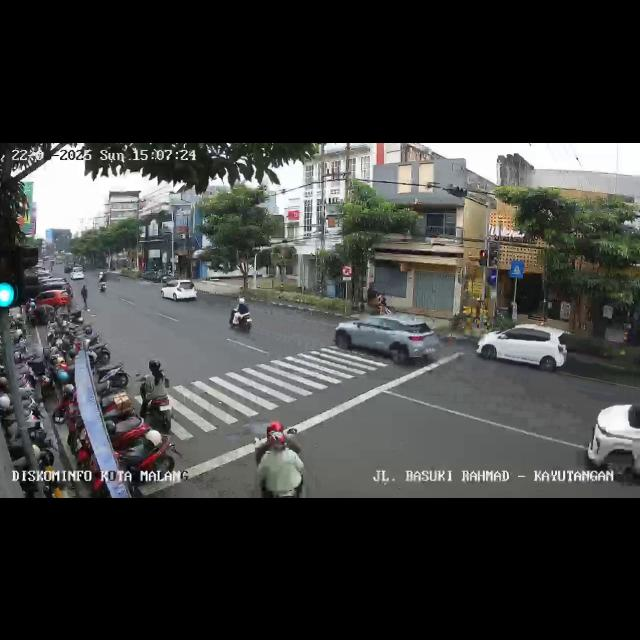car: (335, 310, 439, 368), (474, 322, 568, 376), (584, 394, 640, 484), (28, 280, 72, 316), (160, 277, 198, 305), (68, 265, 86, 279)
motorcycle: (252, 418, 310, 497), (138, 358, 172, 432), (228, 294, 254, 330), (97, 268, 109, 292)
person: (80, 284, 90, 314)
